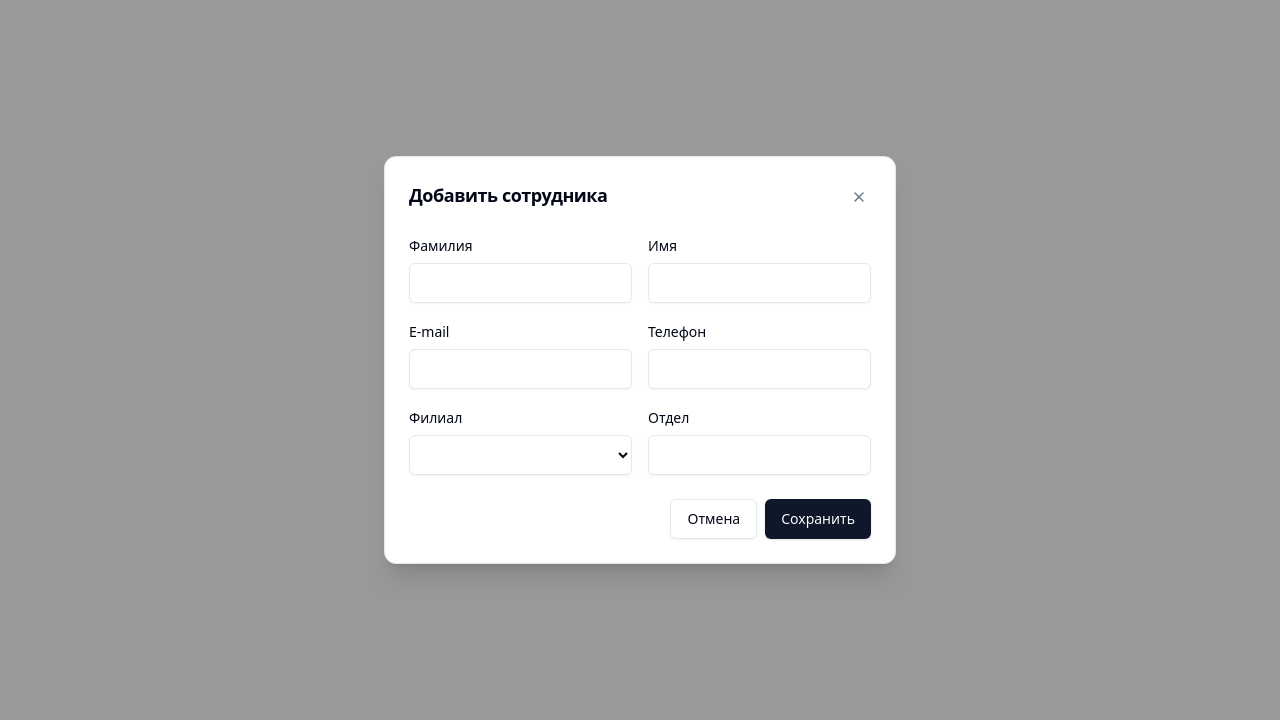
Test: EmployeeFormDialog › surfaces errorBranchRequired when no branches exist in the catalog
Type "Khach" into the field labelled "Имя" at [760, 283], box [648,263,871,303]
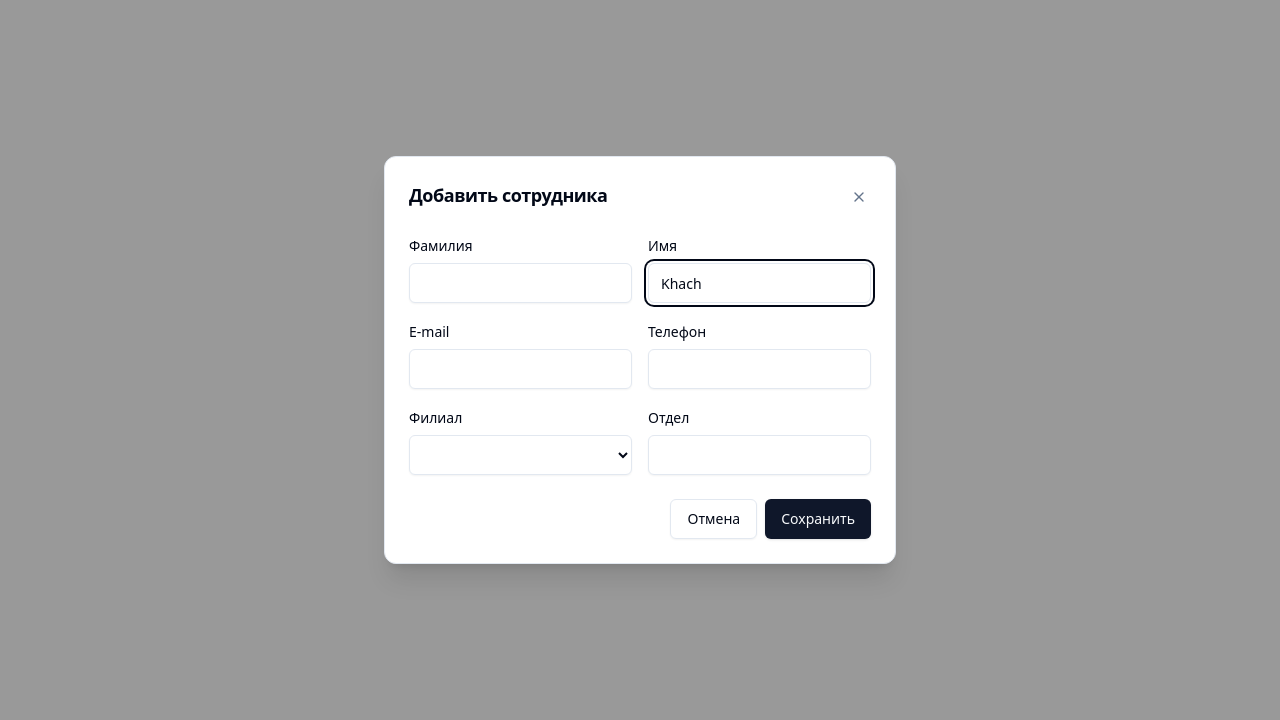
Type "Z" into the field labelled "Фамилия" at [520, 283], box [409,263,632,303]
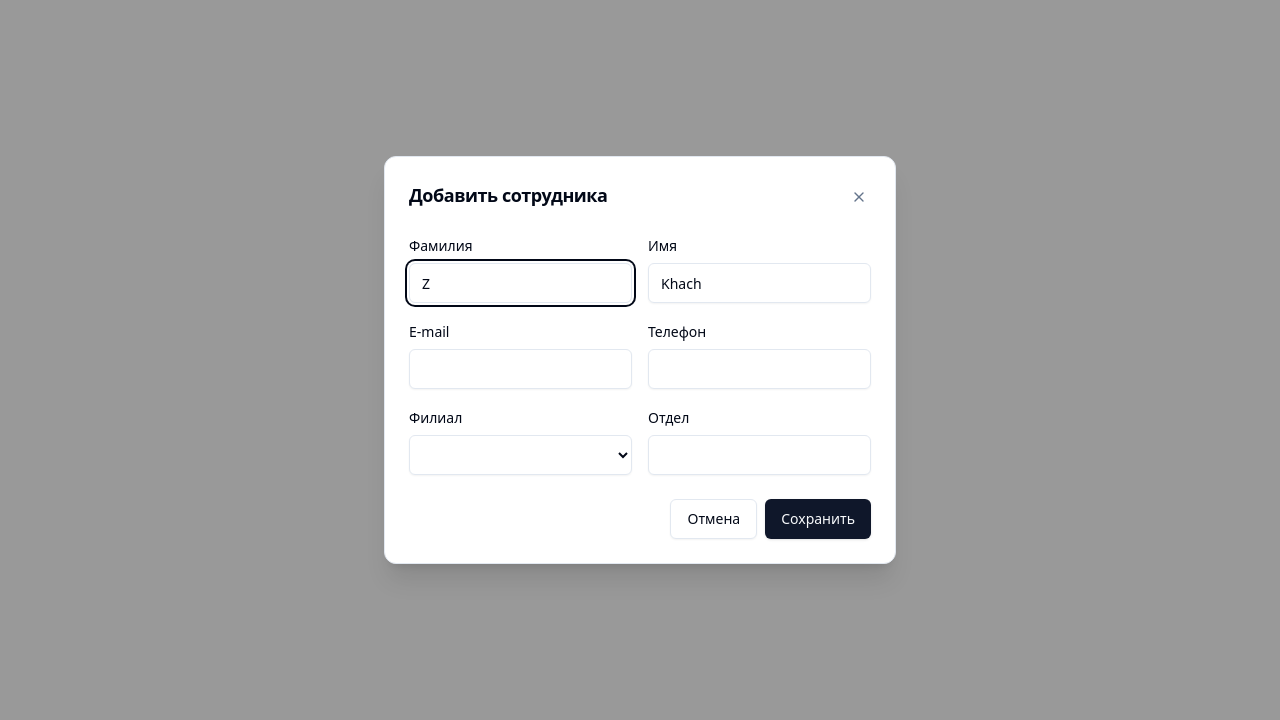
Type "k@example.com" into the field labelled "E-mail" at [520, 369], box [409,349,632,389]
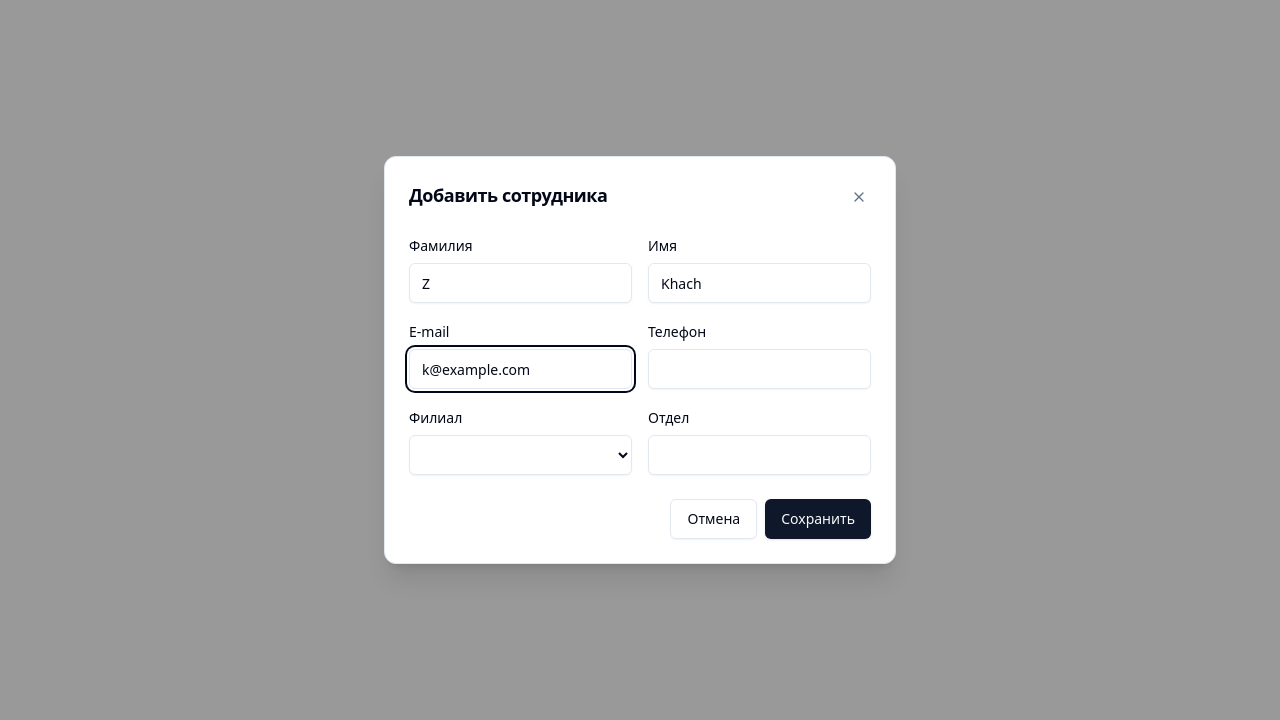
Click the button "Сохранить" at [818, 519], box [765,499,871,539]
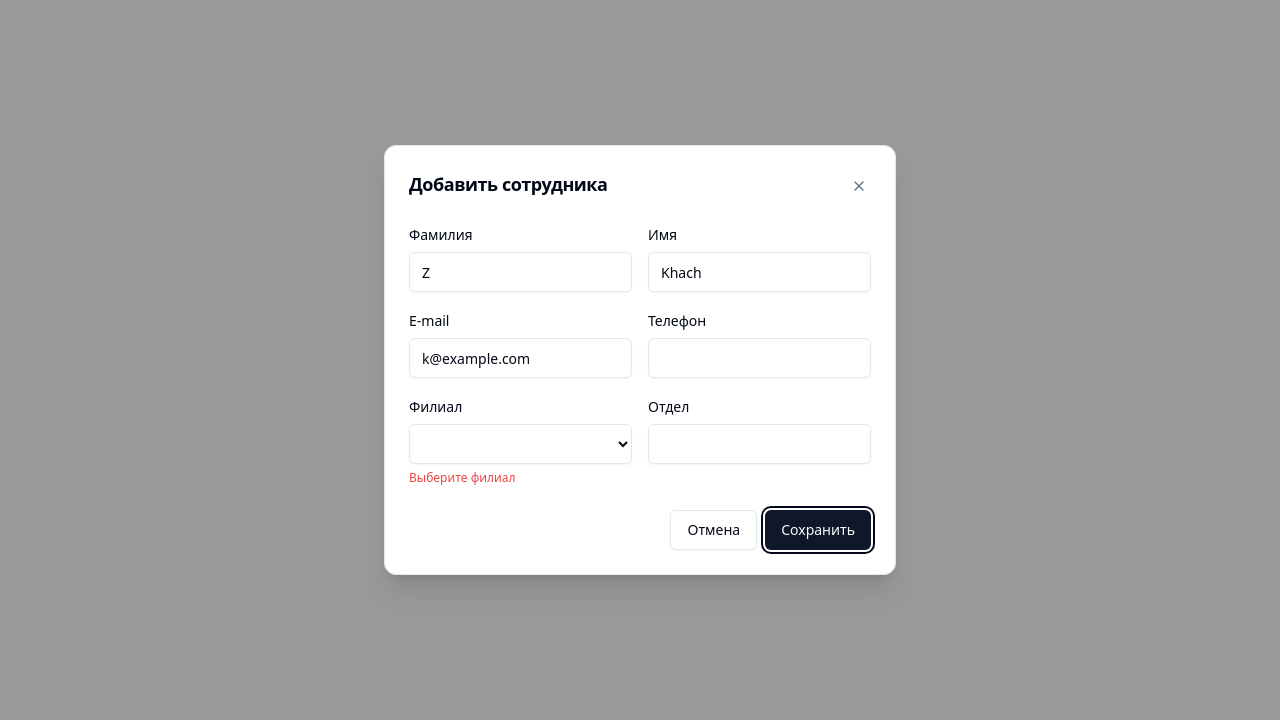
expect the text "Выберите филиал" is shown: met, box [409,469,515,486]
